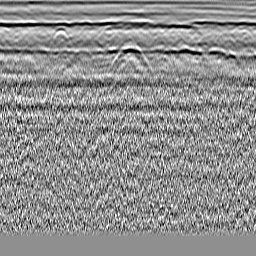cavity: (110, 39, 150, 65)
